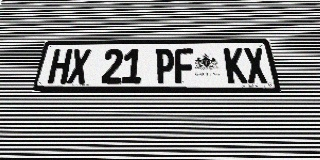1: (121, 49, 142, 84)
2: (101, 49, 123, 84)
F: (174, 48, 195, 84)
H: (47, 49, 72, 84)
K: (223, 48, 248, 84)
P: (155, 49, 174, 84)
X: (243, 48, 269, 84), (67, 49, 91, 84)
